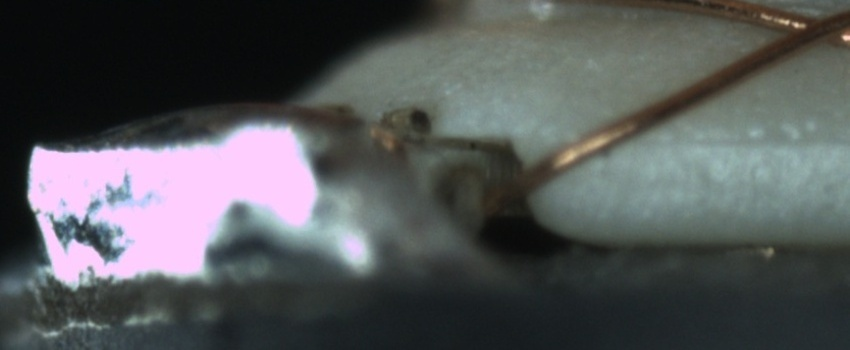CL: (764, 3, 848, 57)
DL: (630, 110, 849, 171)
